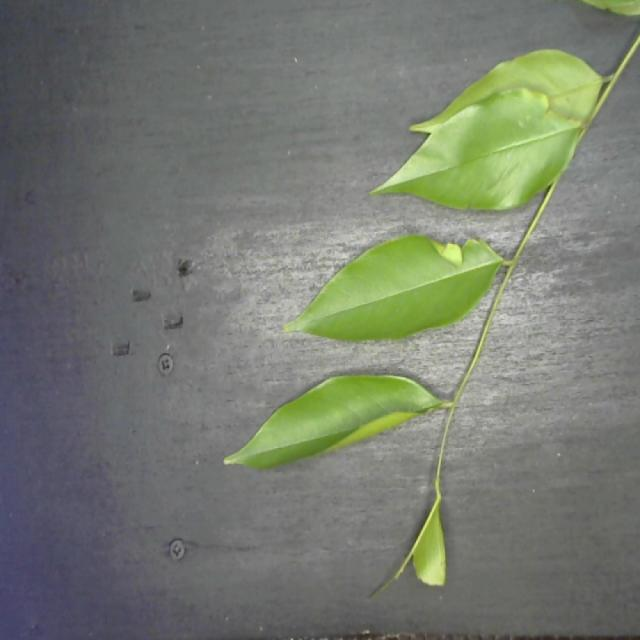biodegradable: (221, 0, 639, 602)
